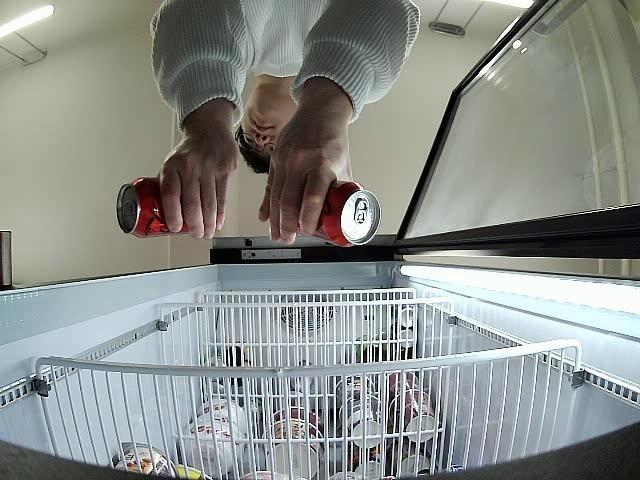11_cocaColaZero: (291, 178, 382, 246), (116, 178, 202, 238)
